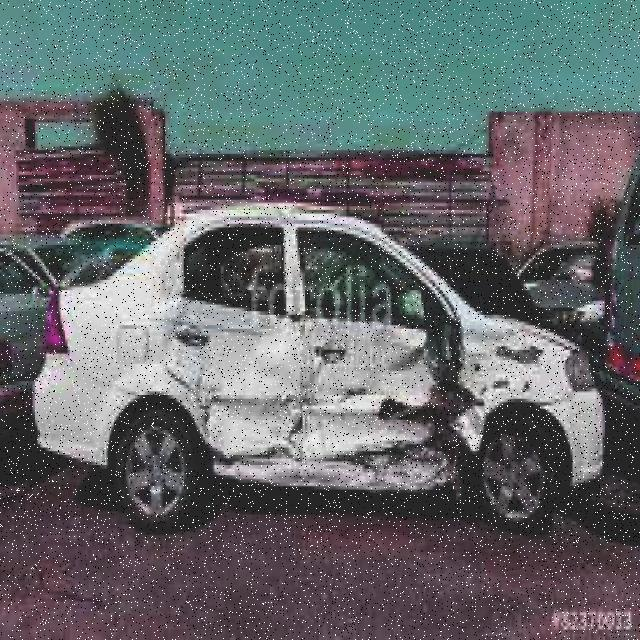car damage: (156, 289, 571, 493)
